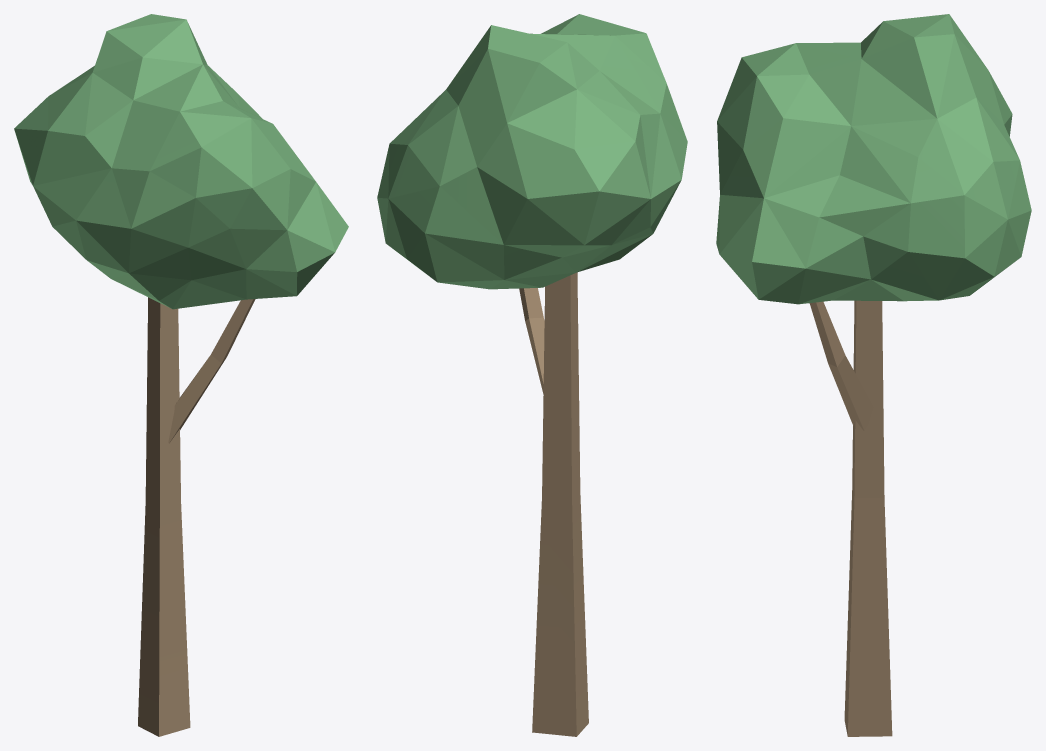
Rendered from tree-tall.glb.
3 views of the same model, side by side, from view 1: azimuth 30°, elevation 25°; view 2: azimuth 150°, elevation 25°; view 3: azimuth 270°, elevation 25° (orthographic). The views are drawn at different scales.
Visible parts, largest first — view 1: tree_tall; view 2: tree_tall; view 3: tree_tall.
Part boxes in pixels (box(x1,y1,x2,y2)): tree_tall: box(14, 14, 348, 736); tree_tall: box(377, 14, 687, 736); tree_tall: box(716, 14, 1031, 736).
Size of the model in its own units: 212 by 570 by 228.
